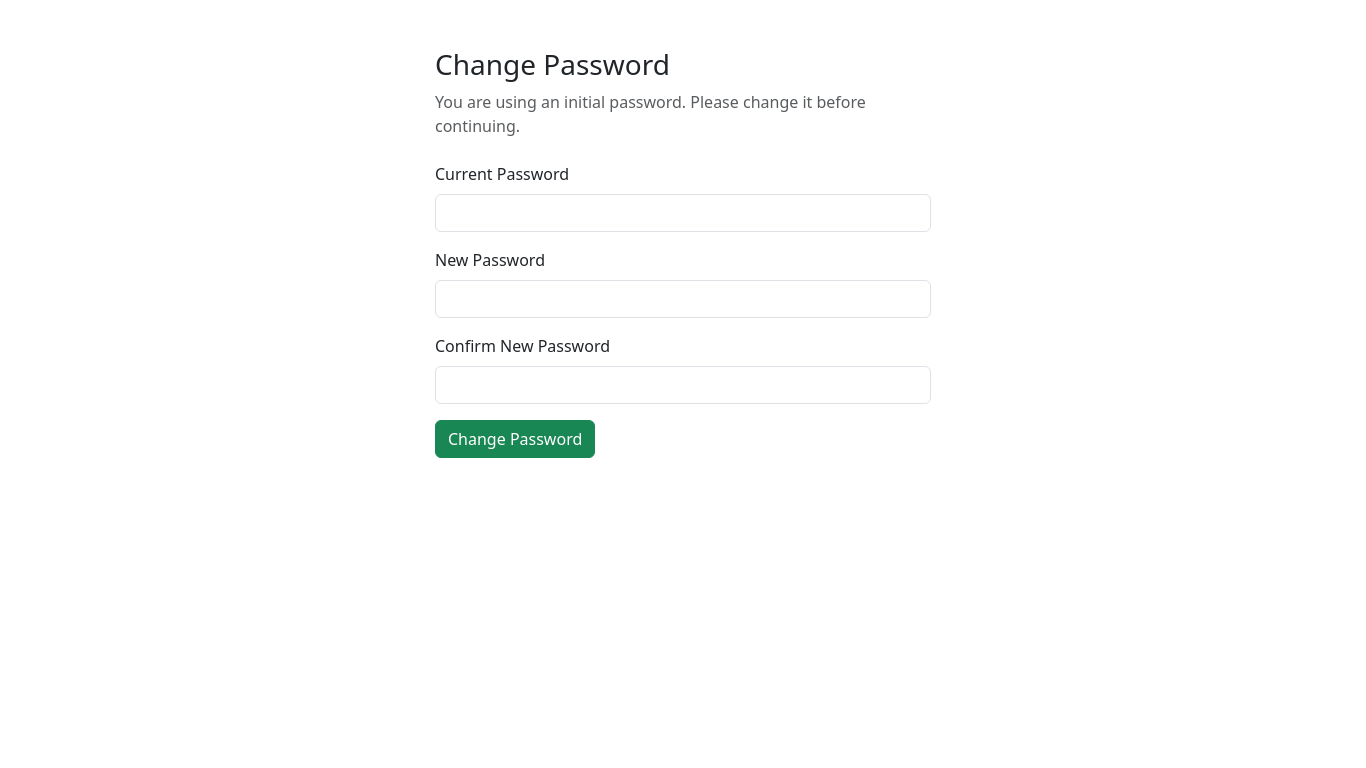
I5 navigation preserves earlier gates and list context › keeps mandatory Change Password ahead of REQUESTER dashboard
Expected: the heading "Change Password" is shown, [435, 45, 670, 83]
Expected: the button "Dashboard" is not shown
Type "TemporaryFixture123!" into the password field labelled "Current Password" at (683, 213), box [435, 194, 931, 232]
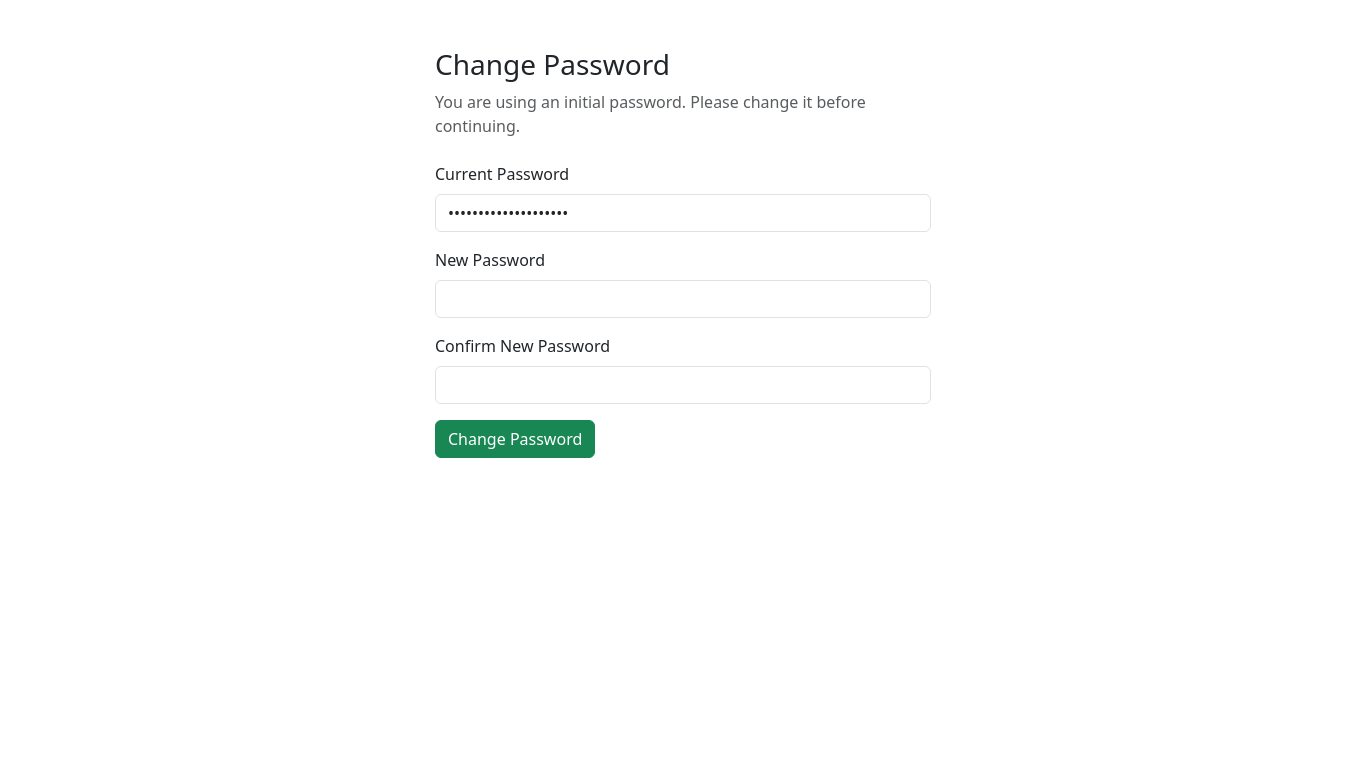
Type "DifferentFixture123!" into the password field labelled "New Password" at (683, 299), box [435, 280, 931, 318]
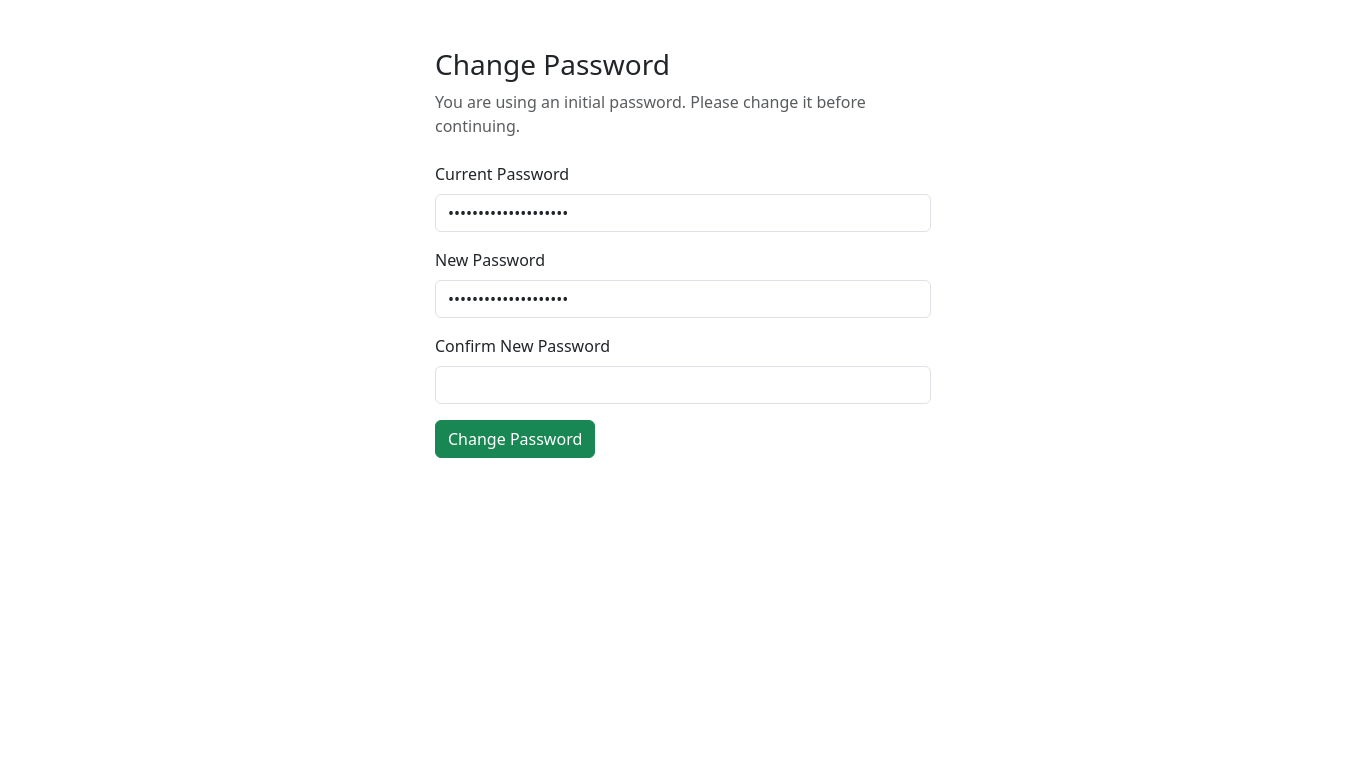
Type "DifferentFixture123!" into the password field labelled "Confirm New Password" at (683, 385), box [435, 366, 931, 404]
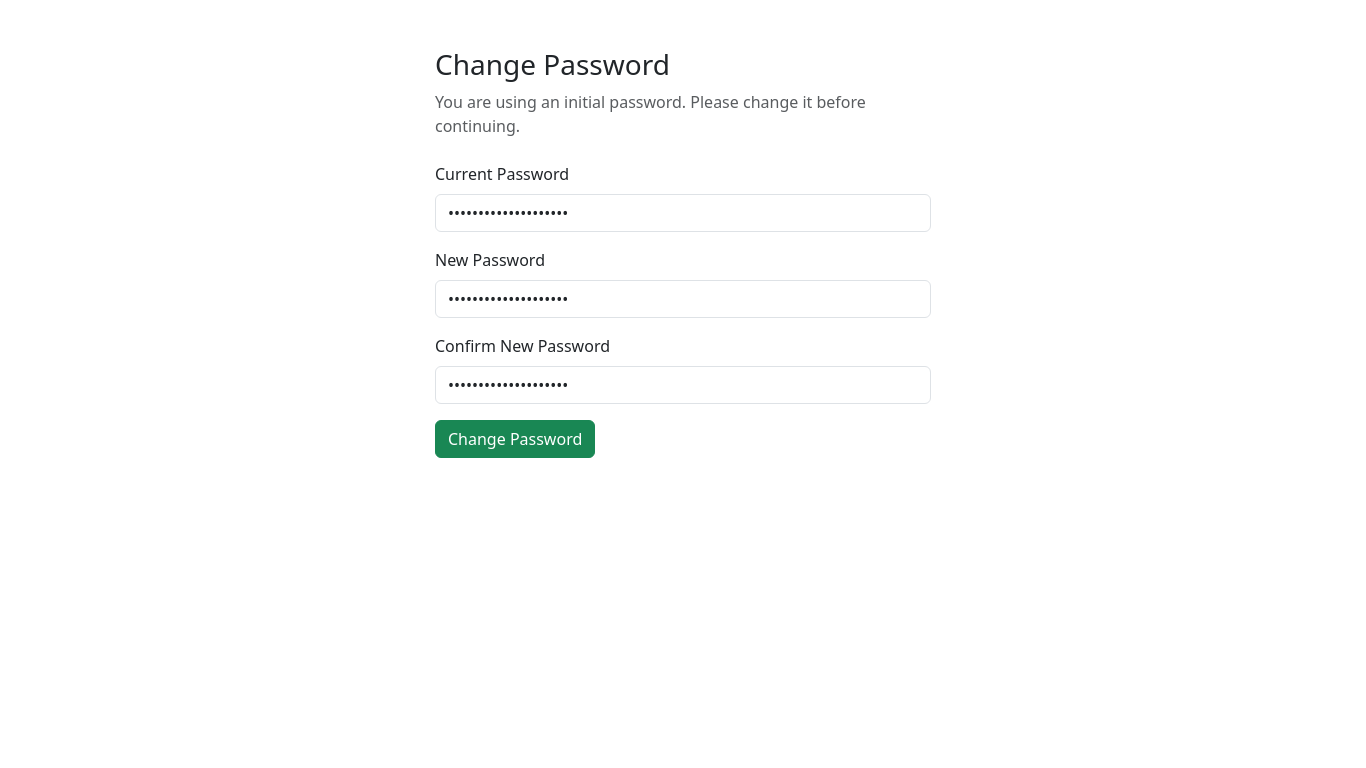
Click the button "Change Password" at (515, 439), box [435, 420, 595, 458]
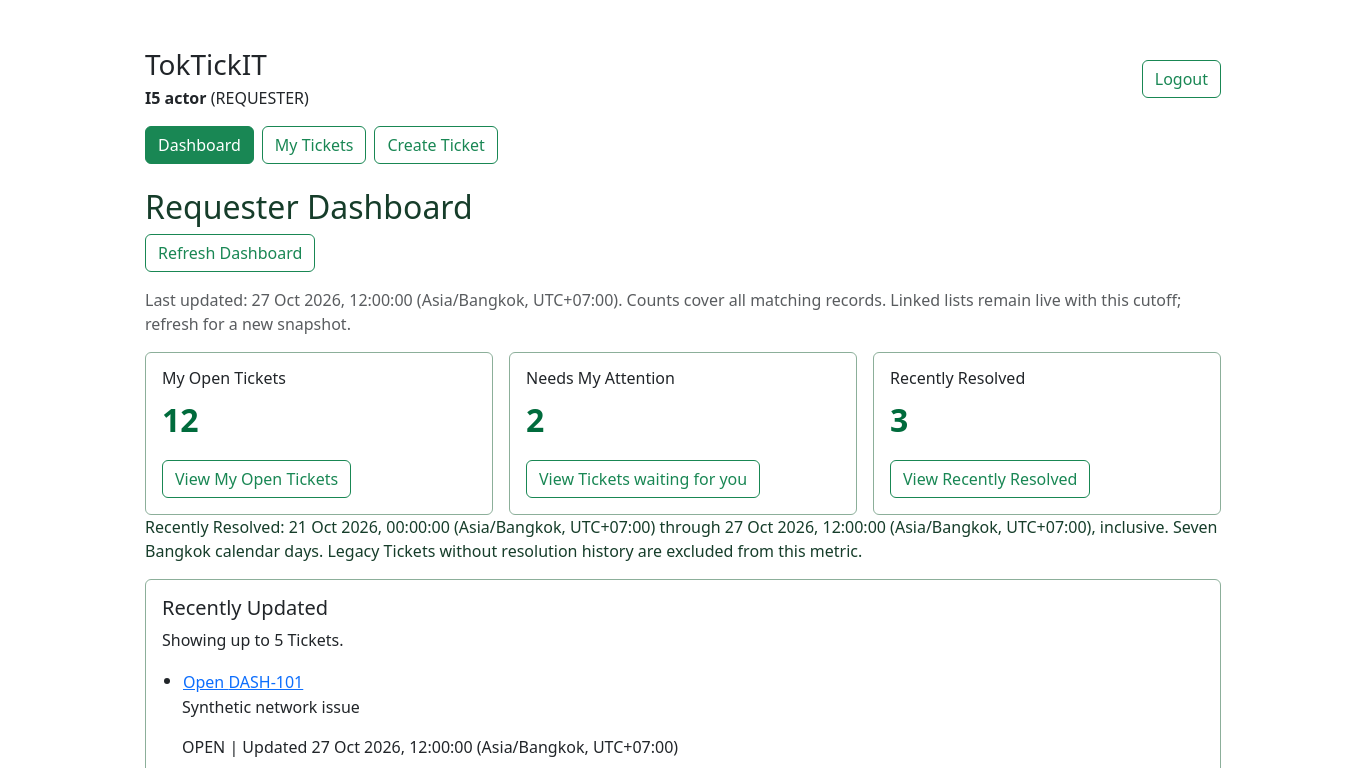
Result: the button "Dashboard" is shown at [145, 126, 254, 164]
